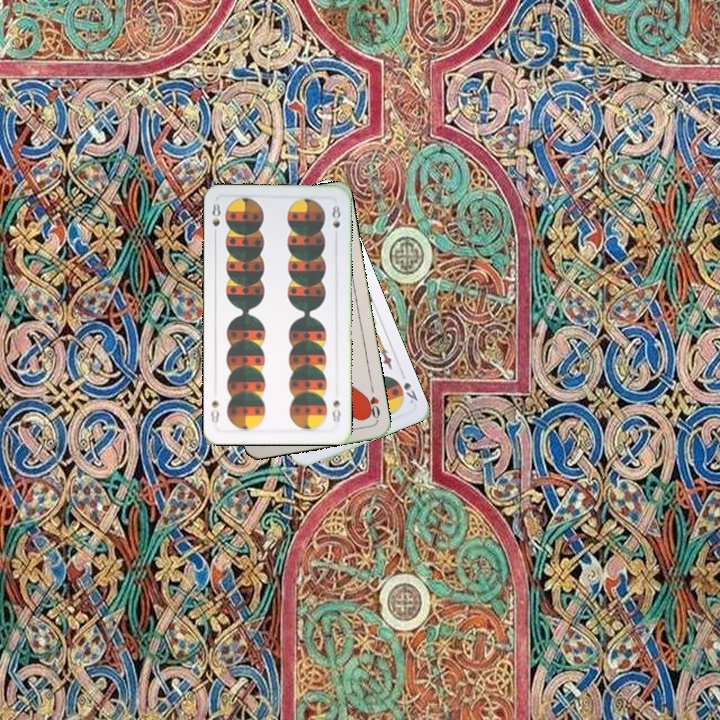HO: (361, 382, 382, 422)
S8: (208, 199, 223, 240), (328, 396, 343, 426)
SK: (399, 378, 420, 406)
